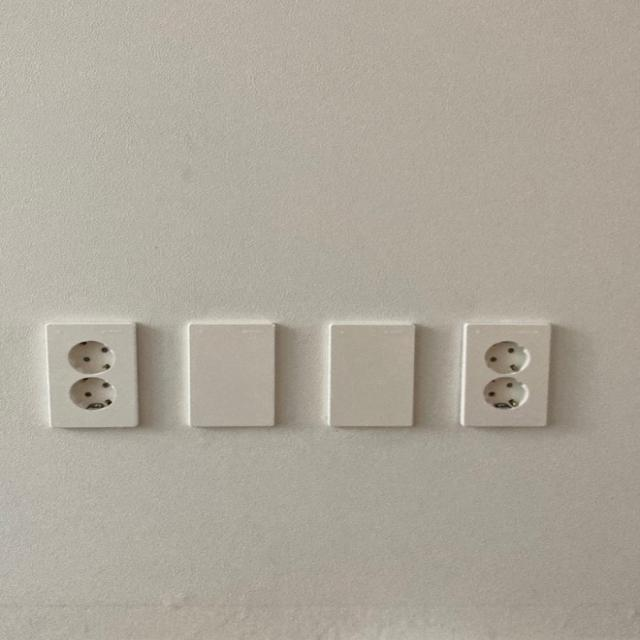typeb: (30, 315, 150, 445), (444, 320, 557, 438)
